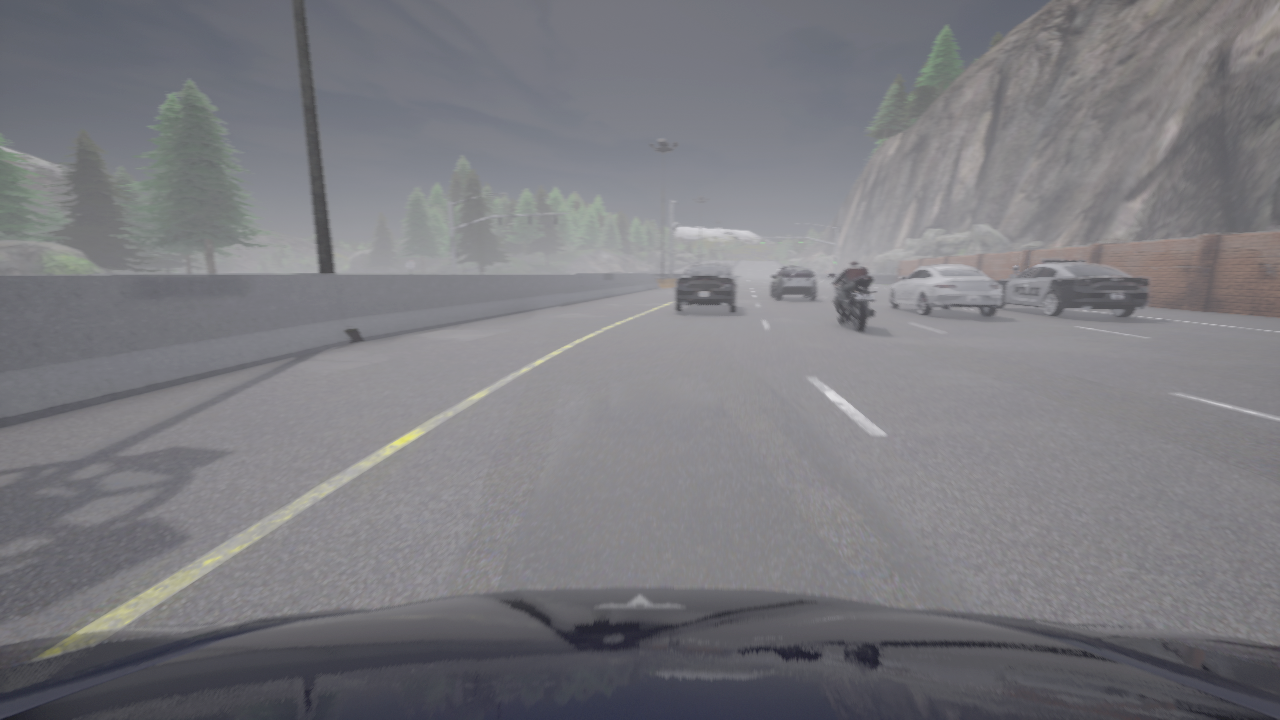cyclist: (0, 588, 1279, 719), (997, 259, 1149, 317), (889, 265, 1001, 316), (674, 263, 740, 312), (828, 274, 874, 331), (771, 267, 817, 300)
